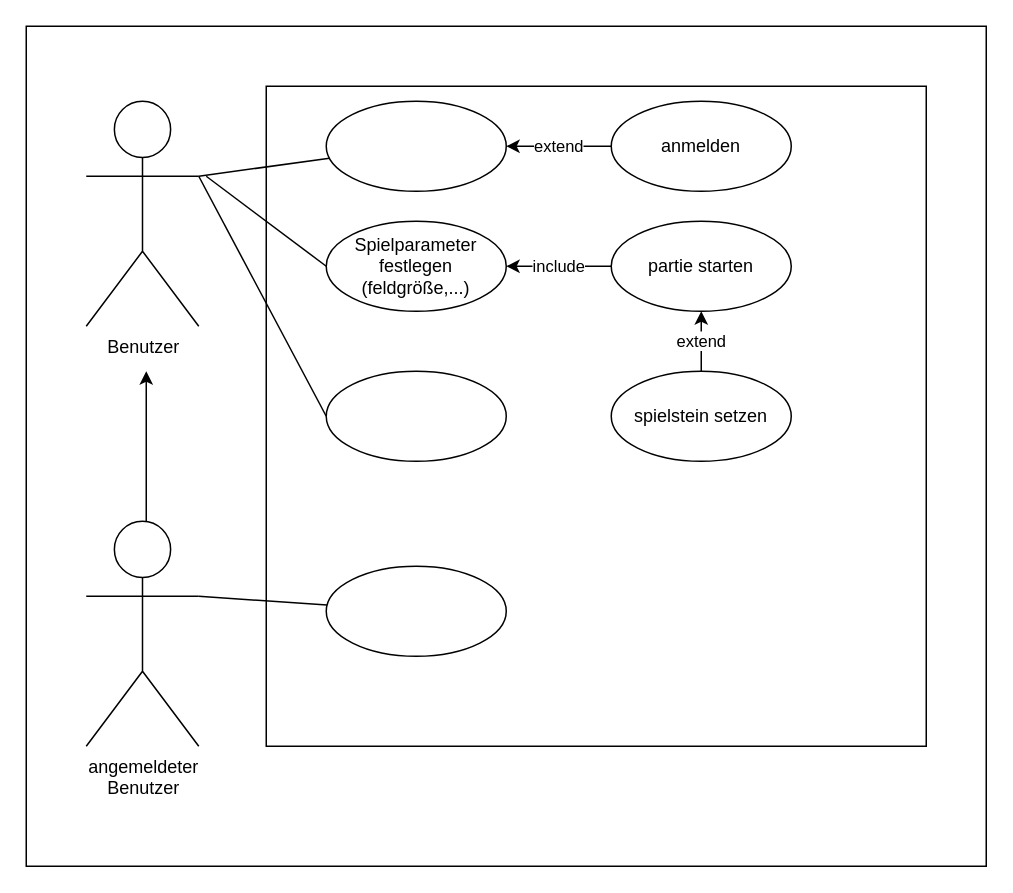
This 1013x893 diagram has some shape labels left out. Here are the shapes that lost their labels. From the top down, the centre of each, then its label:
At point 415,145: "registrieren".
At point 415,415: "Spiel beenden".
At point 415,610: "Statistik einsehen".
